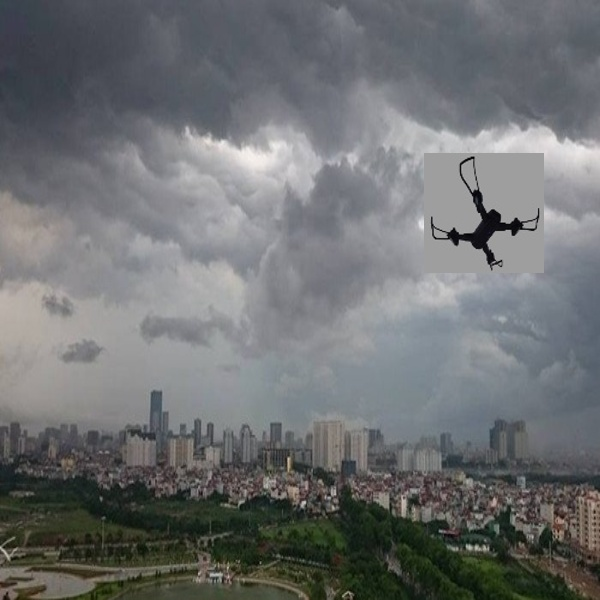drone: (424, 150, 546, 276)
